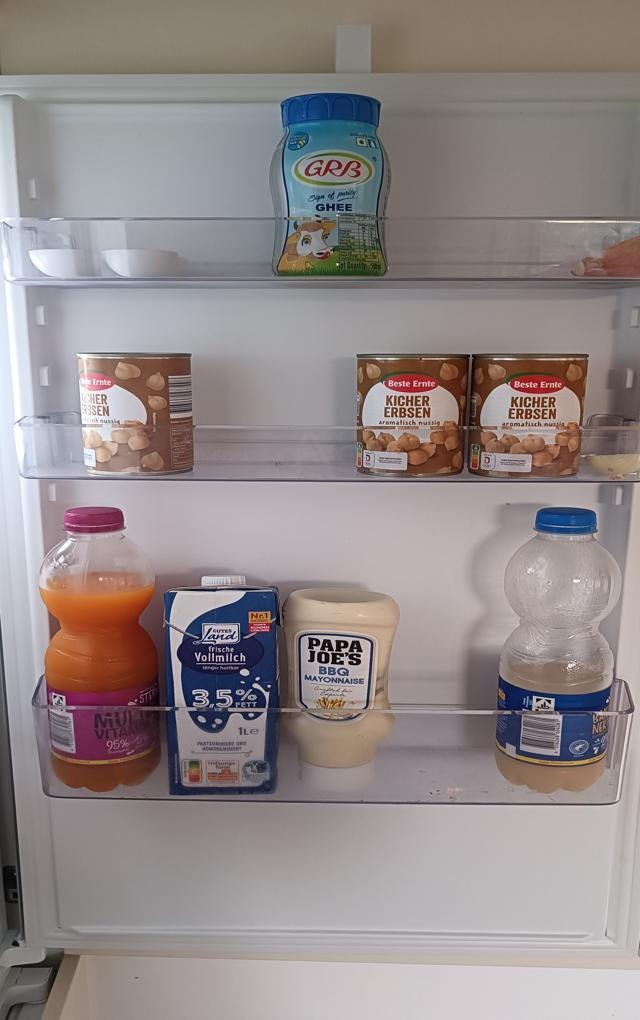bananajuice: (500, 503, 627, 793)
chickpeas: (79, 353, 195, 477), (358, 351, 469, 480), (474, 352, 583, 468)
ghee: (265, 92, 394, 282)
mayoniasie: (283, 584, 401, 792)
milk: (157, 571, 287, 800)
orangejuice: (36, 505, 161, 789)
